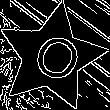O_SW: (20, 24, 83, 90)
